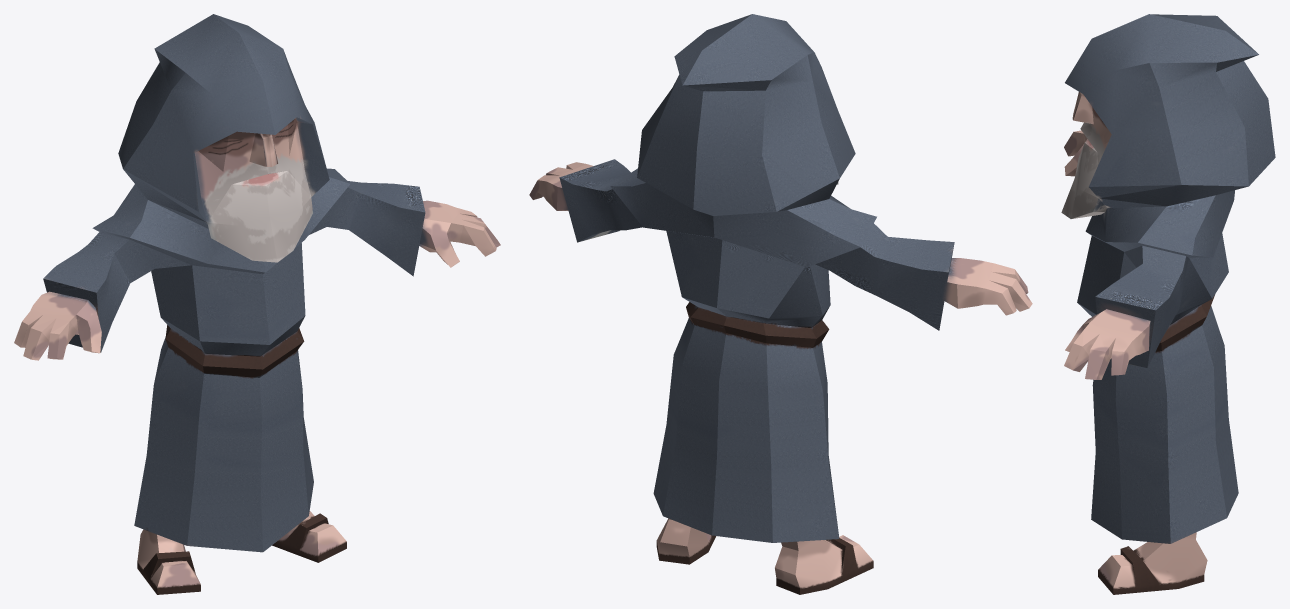
The model's file is MerchantTextured.fbx.
The picture shows the model from 3 angles, left to right: view 1: azimuth 30°, elevation 25°; view 2: azimuth 150°, elevation 25°; view 3: azimuth 270°, elevation 25°; orthographic projection. The views are drawn at different scales.
Parts seen in each view (by area): view 1: monk2; view 2: monk2; view 3: monk2.
Part boxes in pixels (x1,y1,x2,y2): monk2: (14,14,500,594); monk2: (529,14,1032,594); monk2: (1061,14,1275,594).
Size of the model in its own units: 145 by 153 by 55.51.
Materials: 1 (1 with a texture image).
